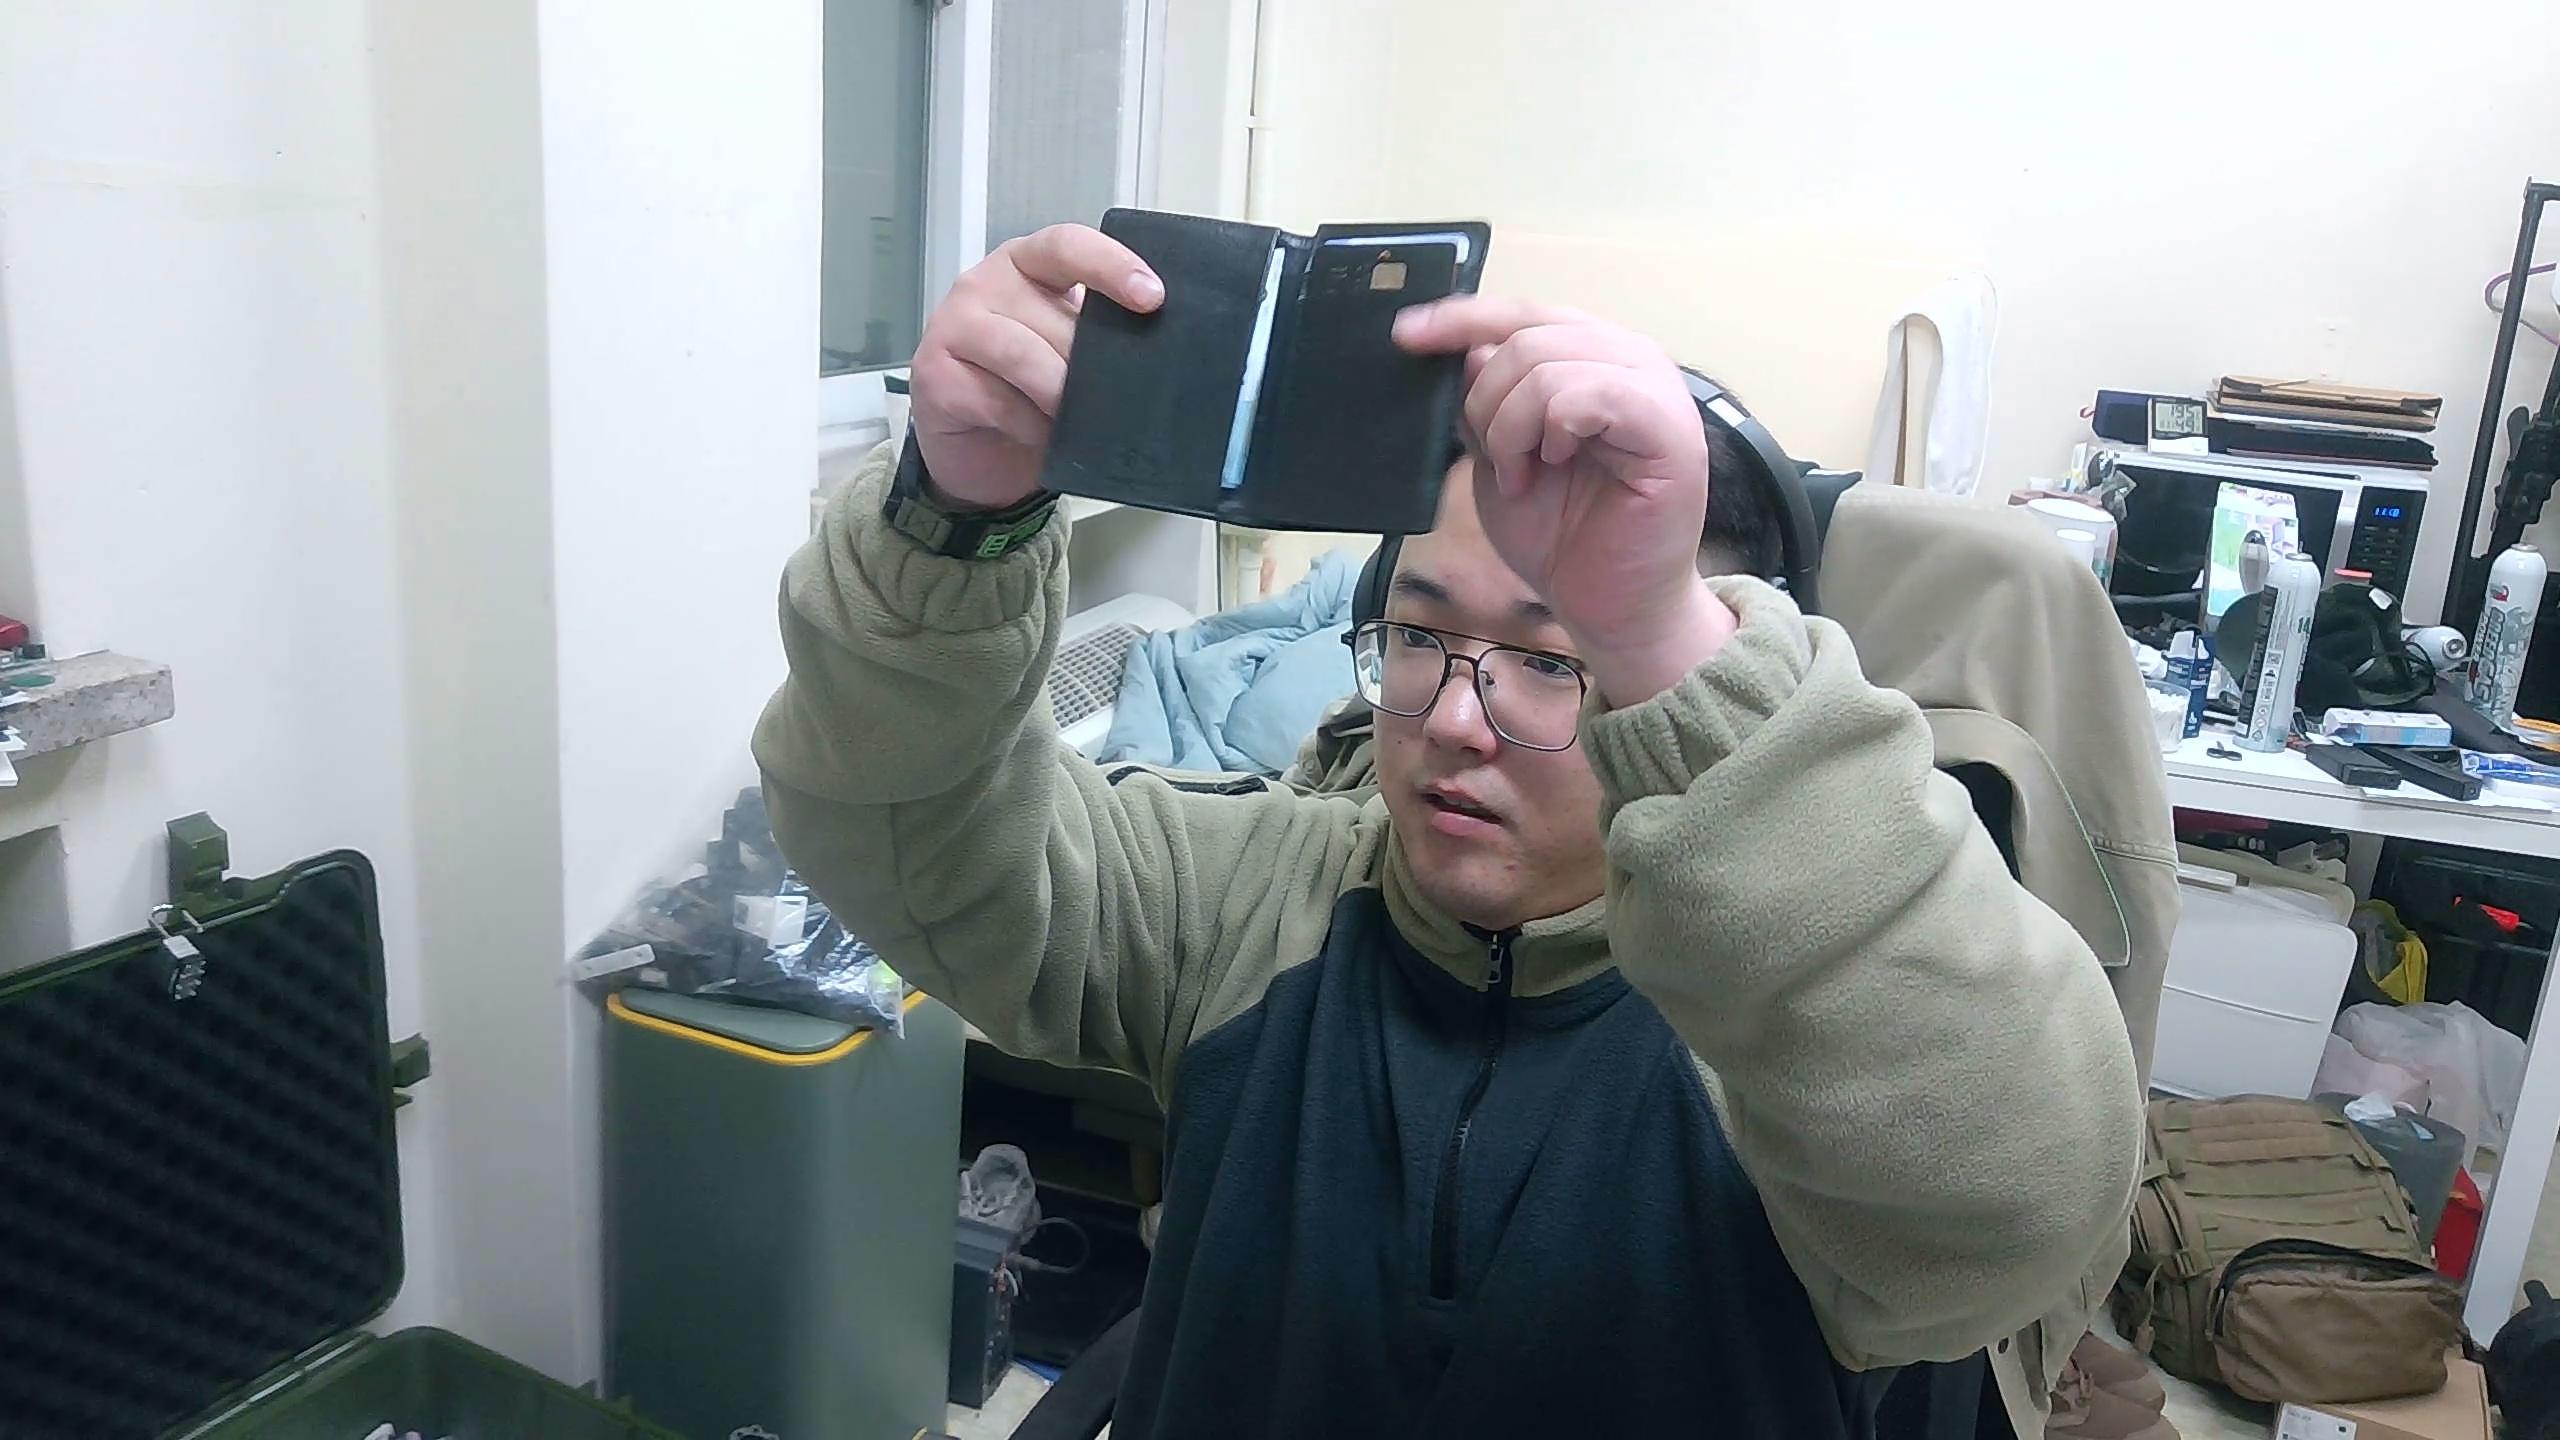earphone: (1037, 202, 1496, 540)
